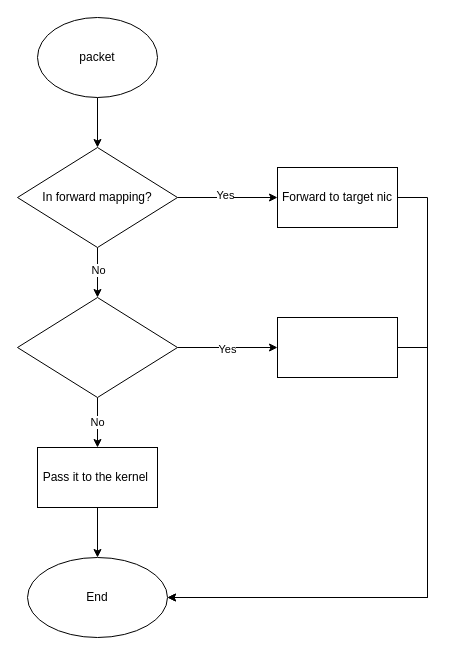
The diagram is 453 pixels wide and 655 high, and some of its shapes have lost their labels. The box of each missing label's shape, as (x1, y1, x2, y2) in pixels:
Forward to tap user: (276, 316, 398, 378)
Target port is listening port?: (16, 296, 178, 398)
